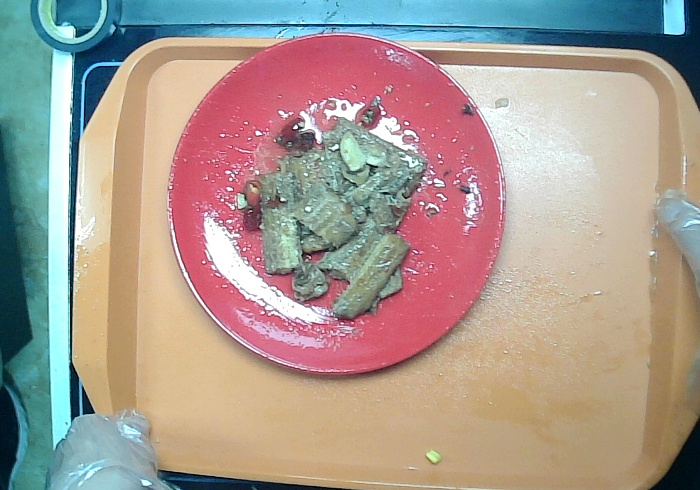HZYJPL-Hong_Se_Yuan_Pan: (166, 31, 509, 377)
